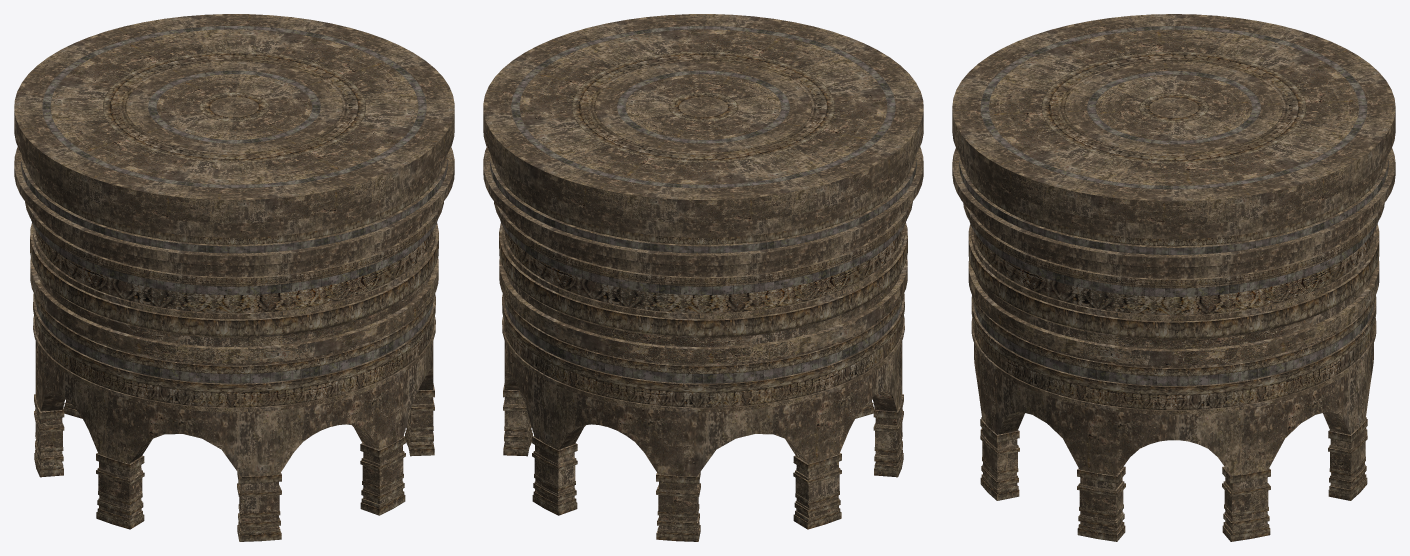
Rendered from materials_5_building_11.fbx.
3 renders of one model, left to right at view 1: azimuth 30°, elevation 25°; view 2: azimuth 150°, elevation 25°; view 3: azimuth 270°, elevation 25°, orthographic.
Parts seen in each view (by area): view 1: materials_5_building_11; view 2: materials_5_building_11; view 3: materials_5_building_11.
Part boxes in pixels (x1,y1,x2,y2): materials_5_building_11: [14, 14, 454, 541]; materials_5_building_11: [483, 14, 923, 541]; materials_5_building_11: [952, 14, 1395, 541].
Bounding box in the file's own units: 728 × 639 × 728.
